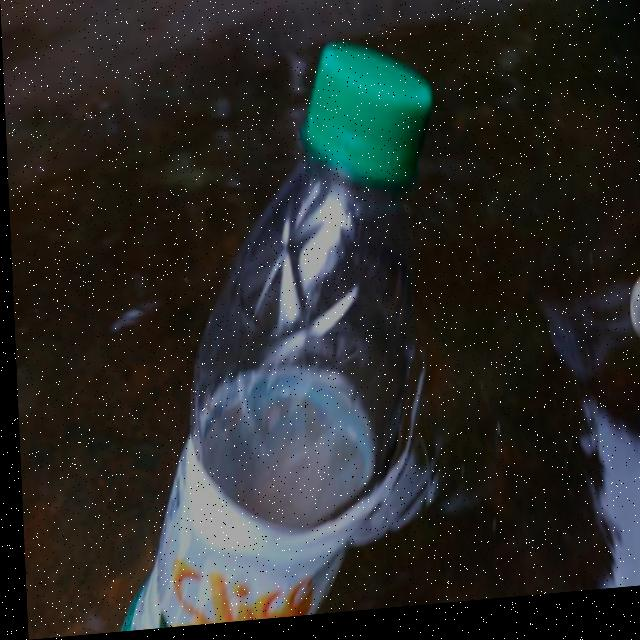leaf: (613, 249, 640, 400)
waterbottle: (89, 22, 460, 634)
